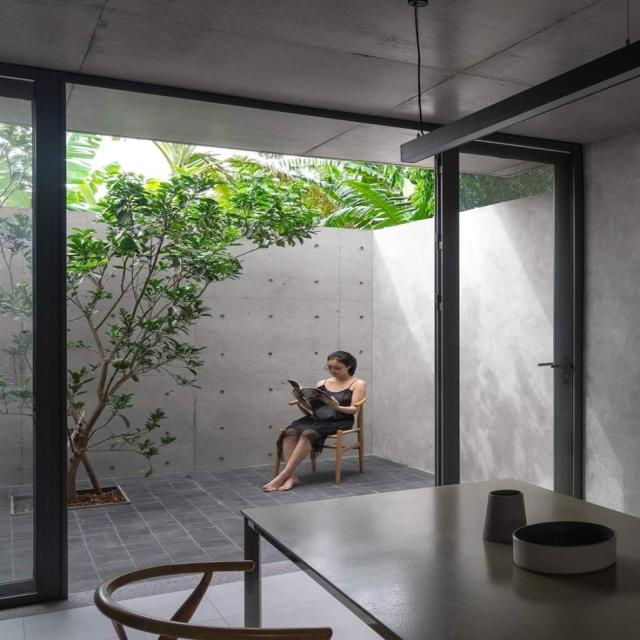door: (434, 130, 582, 498)
obstacle: (239, 476, 639, 639), (93, 560, 333, 640)
person: (261, 349, 366, 492)
